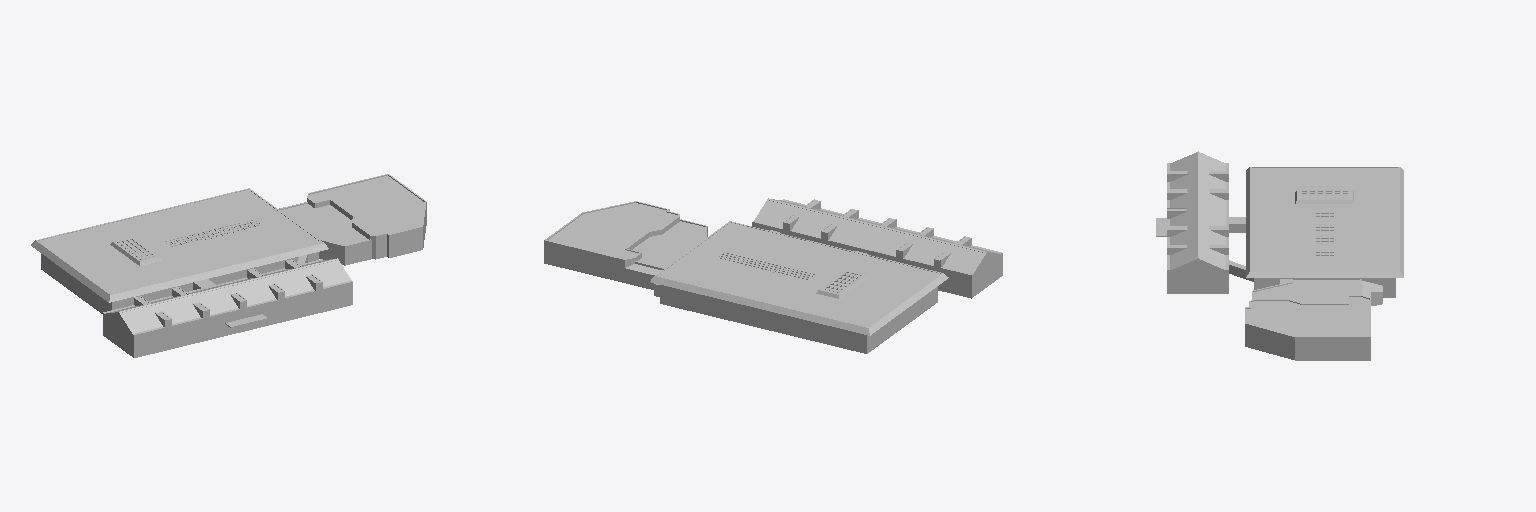
The model's file is union.obj.
3 renders of one model, left to right at view 1: azimuth 30°, elevation 25°; view 2: azimuth 150°, elevation 25°; view 3: azimuth 270°, elevation 25°, orthographic.
Visible parts, largest first — view 1: SketchUp; view 2: SketchUp; view 3: SketchUp.
Part boxes in pixels (left/top/right/bottom): SketchUp: left=31, top=174, right=426, bottom=357; SketchUp: left=544, top=198, right=1002, bottom=353; SketchUp: left=1156, top=151, right=1403, bottom=360.
Bounding box in the file's own units: 15.25 × 1.44 × 9.19.